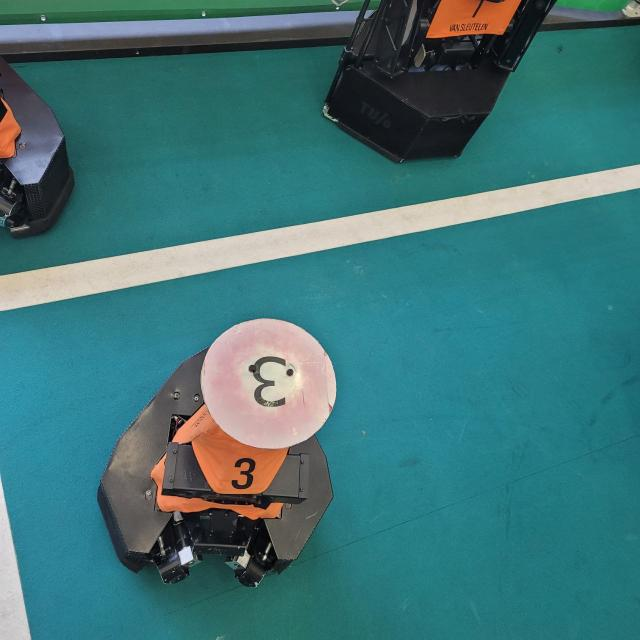robot: (70, 296, 369, 601)
